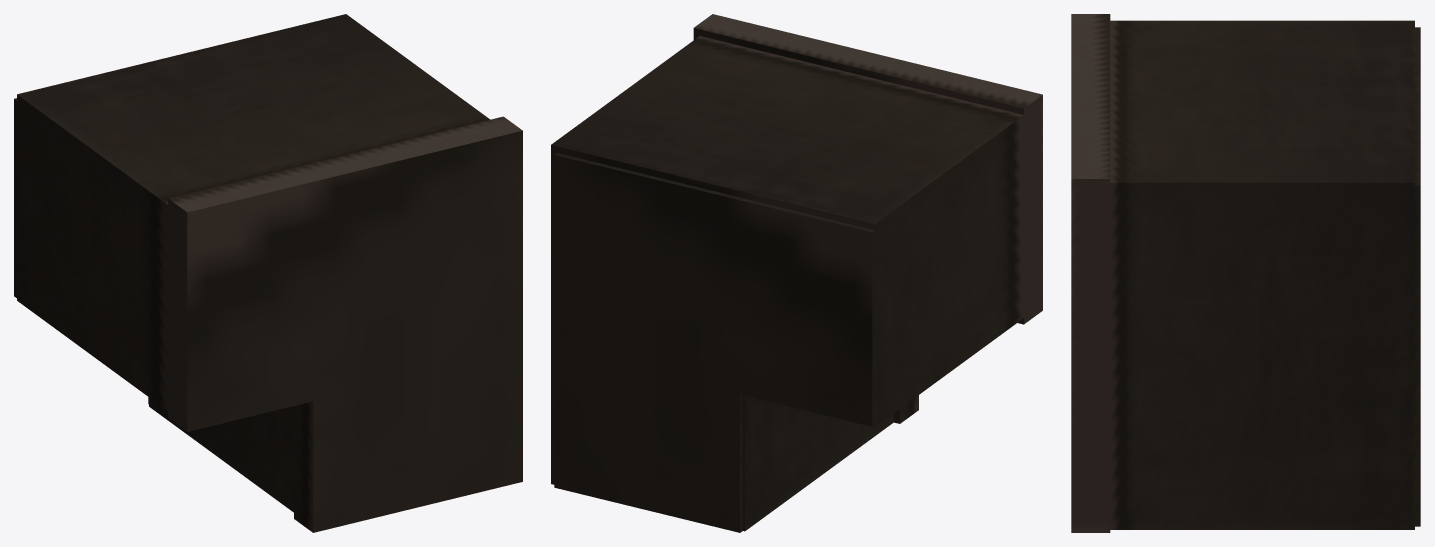
The model's file is pz_counter_dark_corner.obj.
The picture shows the model from 3 angles, left to right: view 1: azimuth 30°, elevation 25°; view 2: azimuth 150°, elevation 25°; view 3: azimuth 270°, elevation 25°; orthographic projection. The views are drawn at different scales.
Size of the model in its own units: 1 by 1 by 0.895.
Materials: 1 (1 with a texture image).
